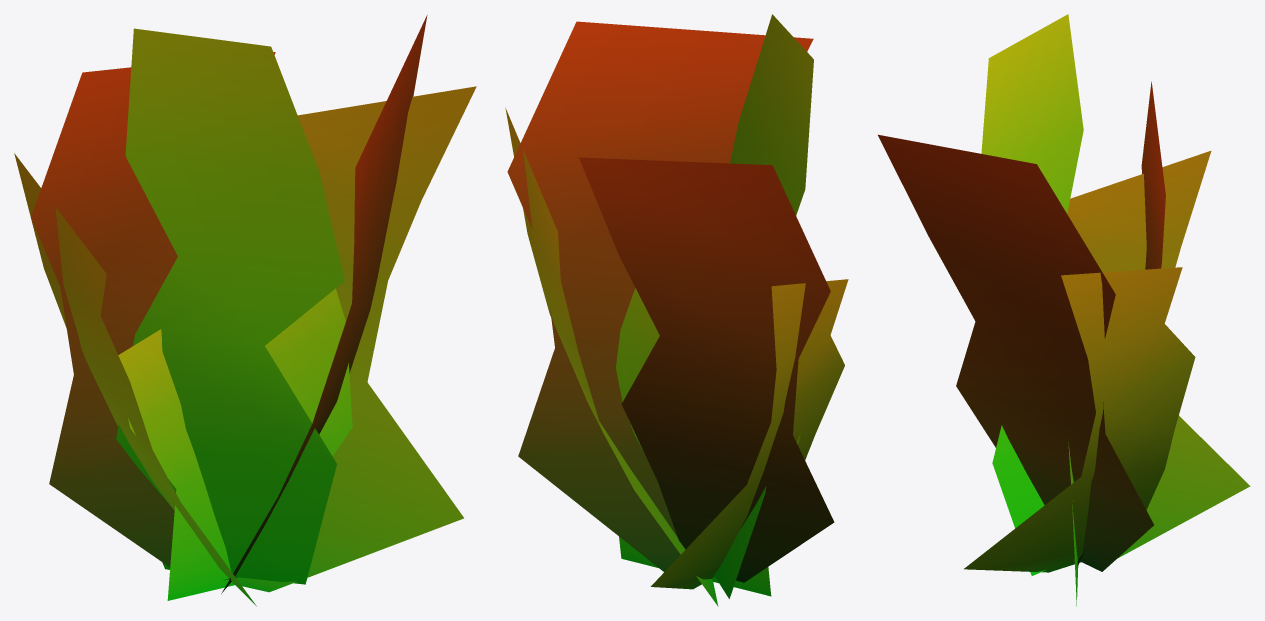
The model's file is Var8Hi55.fbx.
3 renders of one model, left to right at view 1: azimuth 30°, elevation 25°; view 2: azimuth 150°, elevation 25°; view 3: azimuth 270°, elevation 25°, orthographic. The views are drawn at different scales.
Parts seen in each view (by area): view 1: bend1; view 2: bend1; view 3: bend1.
Boxes of the visible parts, bbox=[...] form: bend1: bbox=[14, 15, 476, 606]; bend1: bbox=[505, 14, 848, 606]; bend1: bbox=[878, 14, 1250, 606].
Bounding box in the file's own units: 1.26 × 1.77 × 1.18.
